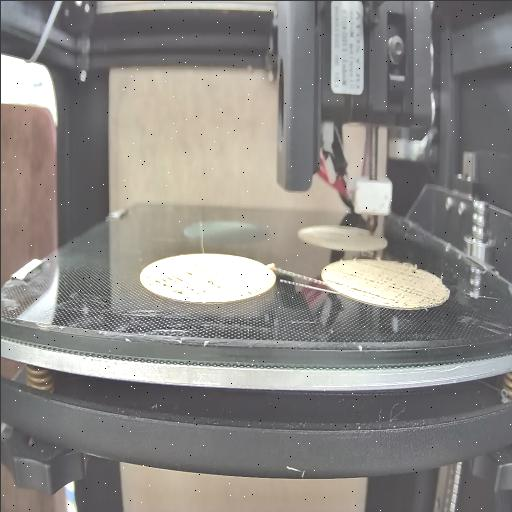under_extrusion: (325, 263, 429, 299), (145, 266, 261, 296)
